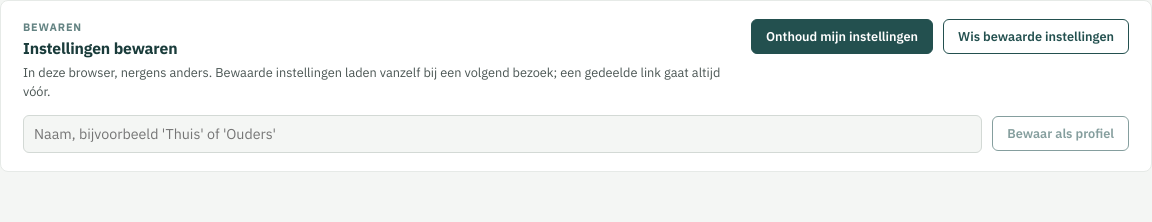
it: bewaarde instellingen wissen › wist pas bij de tweede klik
The width and height of the screenshot is (1152, 222).
Step 1. Click the button "Wis bewaarde instellingen" → coordinates (1036, 37), box [943, 19, 1129, 54]
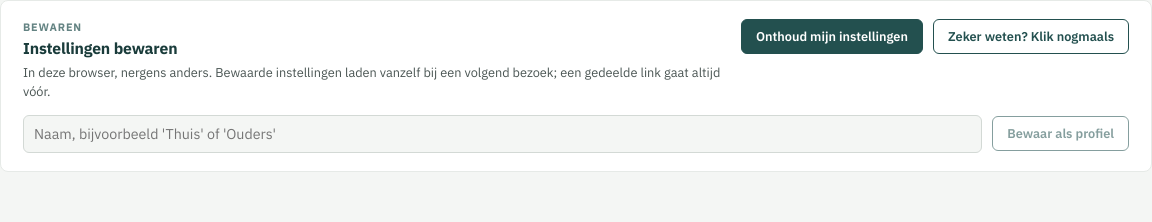
Step 2. Click the button "Zeker weten? Klik nogmaals" → coordinates (1031, 37), box [933, 19, 1129, 54]
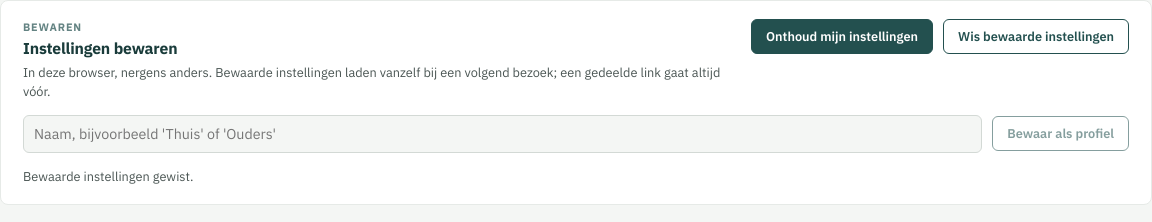
Check: the text "Bewaarde instellingen gewist." is shown, box [23, 168, 193, 184]
